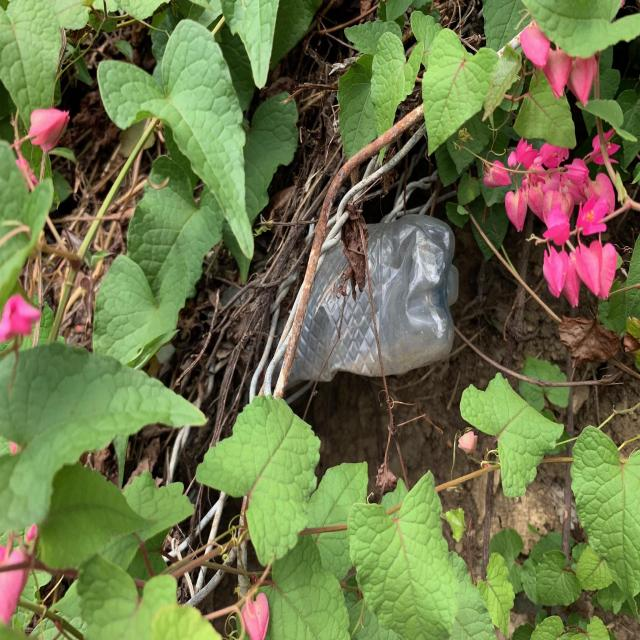litter: (284, 213, 459, 392)
